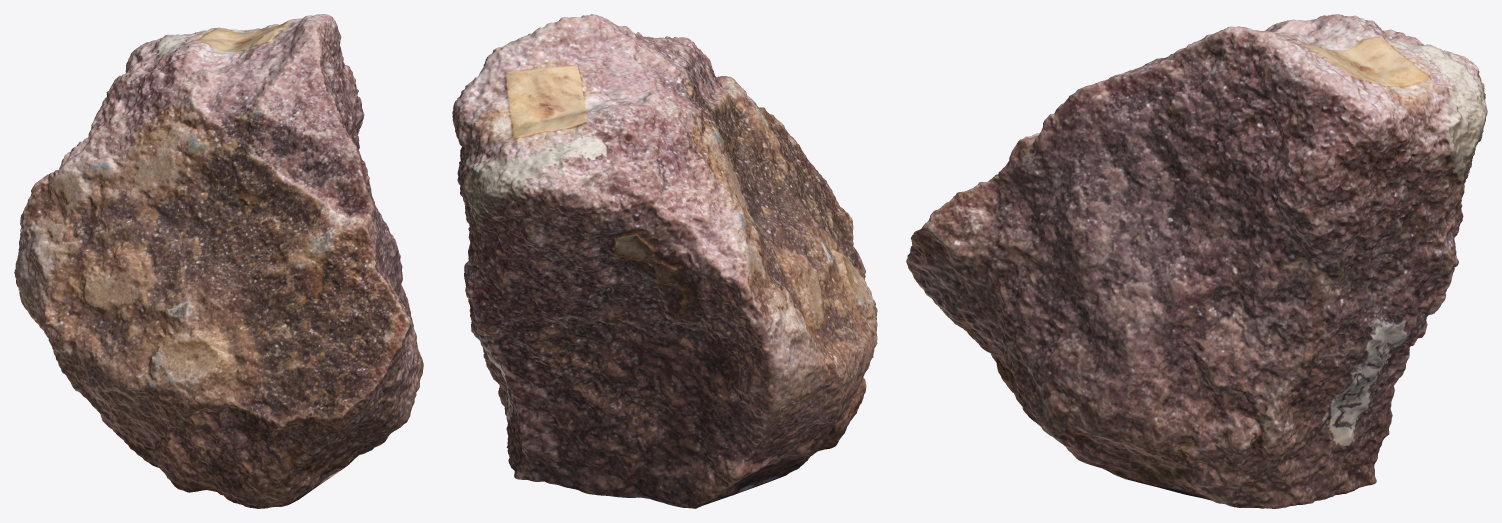
The picture shows the model from 3 angles, left to right: view 1: azimuth 30°, elevation 25°; view 2: azimuth 150°, elevation 25°; view 3: azimuth 270°, elevation 25°; orthographic projection. The views are drawn at different scales.
Parts seen in each view (by area): view 1: Object_3, Object_4, Object_2, Object_5, Object_6; view 2: Object_4, Object_5, Object_2, Object_6, Object_3; view 3: Object_3, Object_2, Object_4, Object_5, Object_6.
Boxes of the visible parts, x1=… form: Object_3: x1=51, y1=14, x2=423, y2=508; Object_4: x1=23, y1=14, x2=413, y2=507; Object_2: x1=15, y1=14, x2=407, y2=508; Object_5: x1=14, y1=15, x2=423, y2=508; Object_6: x1=14, y1=14, x2=422, y2=508; Object_4: x1=459, y1=14, x2=875, y2=508; Object_5: x1=460, y1=14, x2=877, y2=508; Object_2: x1=457, y1=17, x2=876, y2=507; Object_6: x1=458, y1=14, x2=877, y2=508; Object_3: x1=452, y1=26, x2=866, y2=508; Object_3: x1=910, y1=44, x2=1464, y2=506; Object_2: x1=907, y1=29, x2=1455, y2=508; Object_4: x1=910, y1=14, x2=1483, y2=508; Object_5: x1=908, y1=19, x2=1487, y2=506; Object_6: x1=906, y1=17, x2=1486, y2=508.
Size of the model in its own units: 2.77 by 3.07 by 3.57.
Materials: 1 (1 with a texture image).
